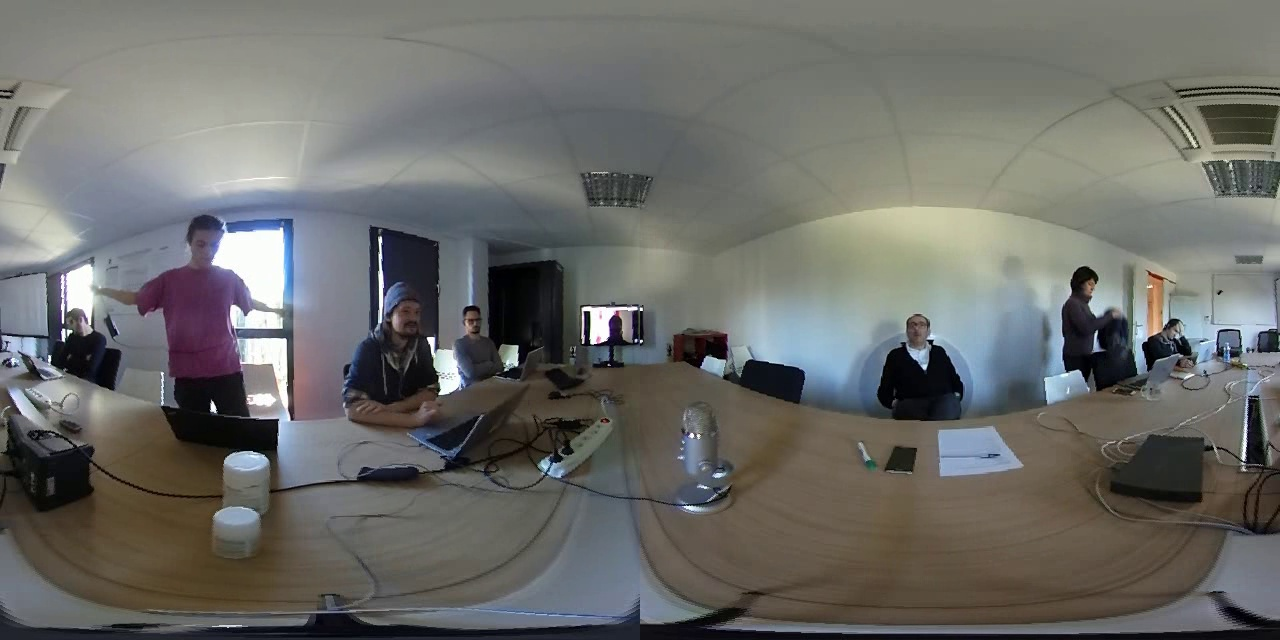person: (134, 206, 285, 400), (331, 264, 447, 424), (877, 289, 971, 431), (1053, 246, 1126, 377), (452, 294, 507, 377), (44, 298, 108, 362), (1138, 312, 1210, 364), (583, 306, 634, 346)
